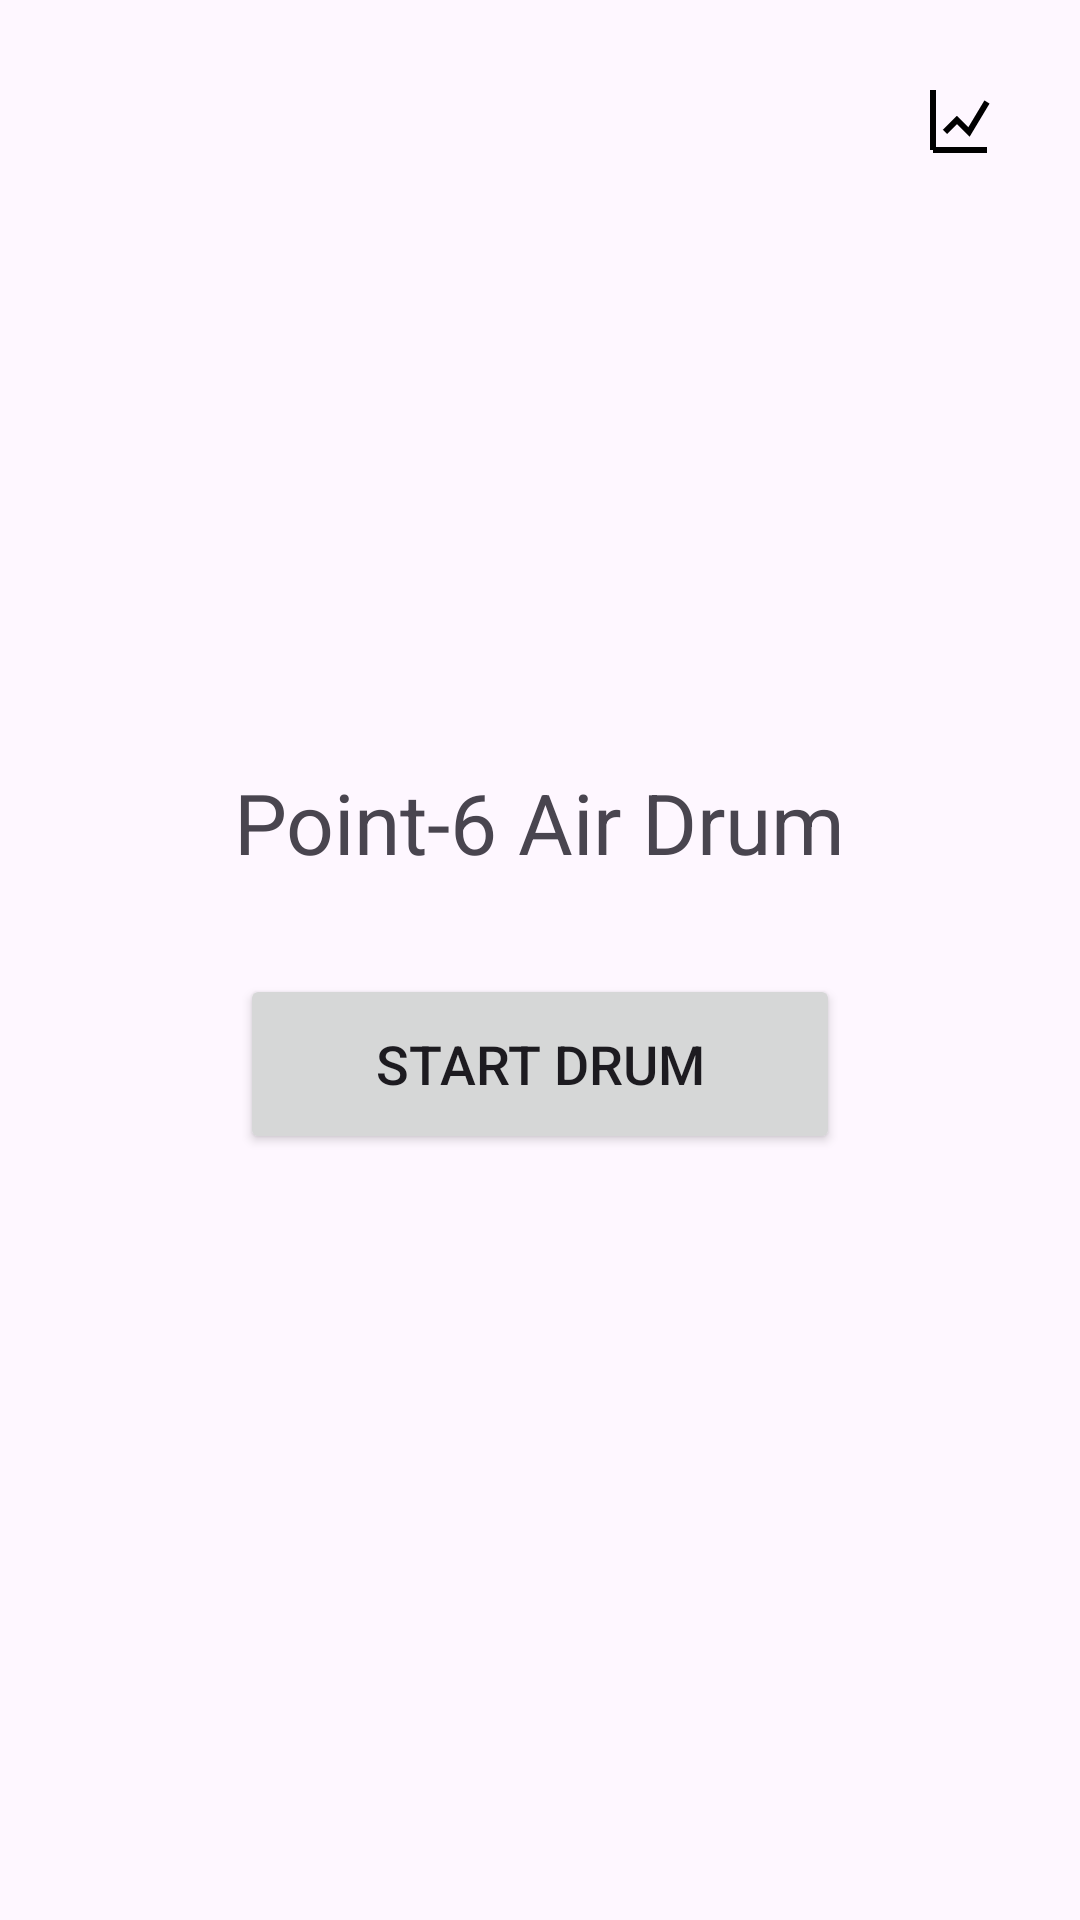

Named icons in this screenshot (1080x1920) and their bounding boxes, (x1, y1, x2, y2):
Open Data Logger: (930, 90, 990, 153)
